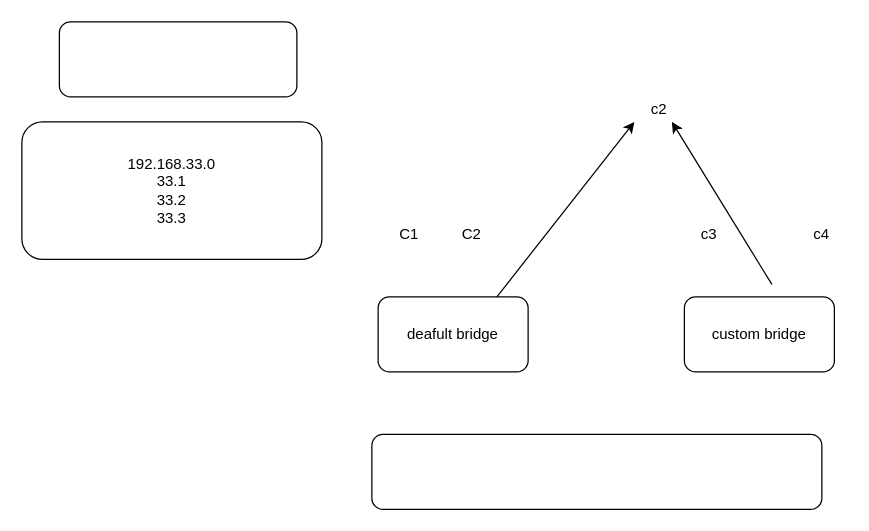
Some shapes in this 869 by 531 pixel diagram are drawn without their labels. The shapes that lost their labels are listed below. From the top down, each one's centre as x and y in pixels, then its label:
the point at 177,59: ec2-linux-->8gb of EBS 5*8=40
the point at 596,471: docker host
